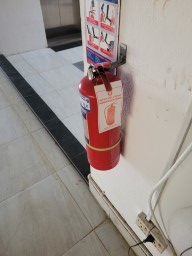fire_extinguisher: (0, 85, 129, 154), (50, 90, 128, 152)
